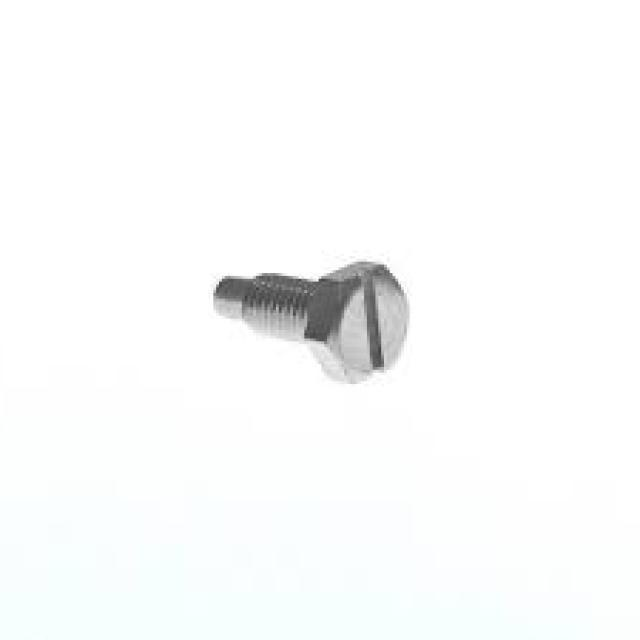duz: (303, 258, 413, 383)
